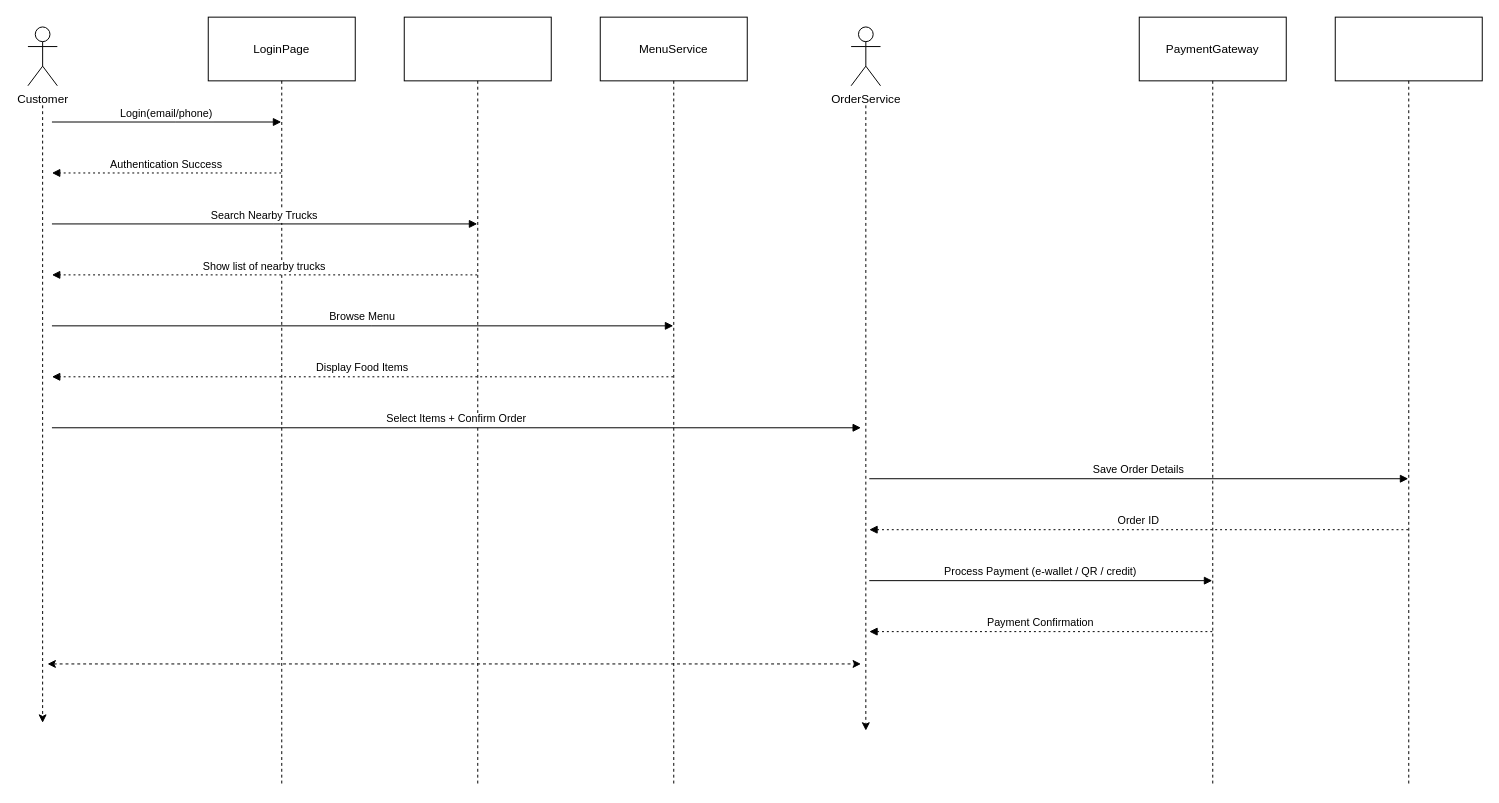
Image size: 1499x803. Some labels were removed from this diagram. Here are the shapes that lost their labels. From the top down, the box of each, then its label:
(403, 16, 551, 785): FoodTruckFinder
(1334, 16, 1482, 785): OrderDatabase
